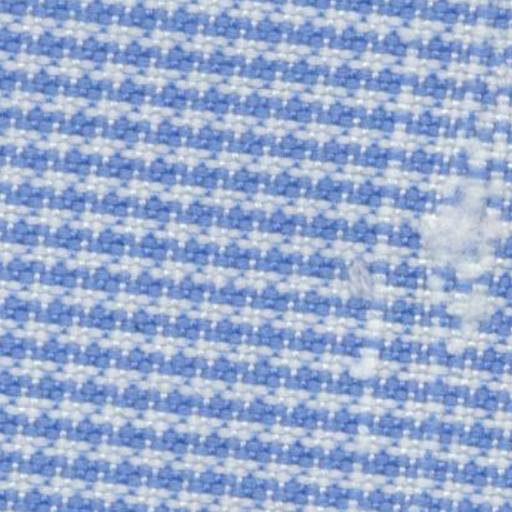MianQiu: (424, 190, 488, 270)
